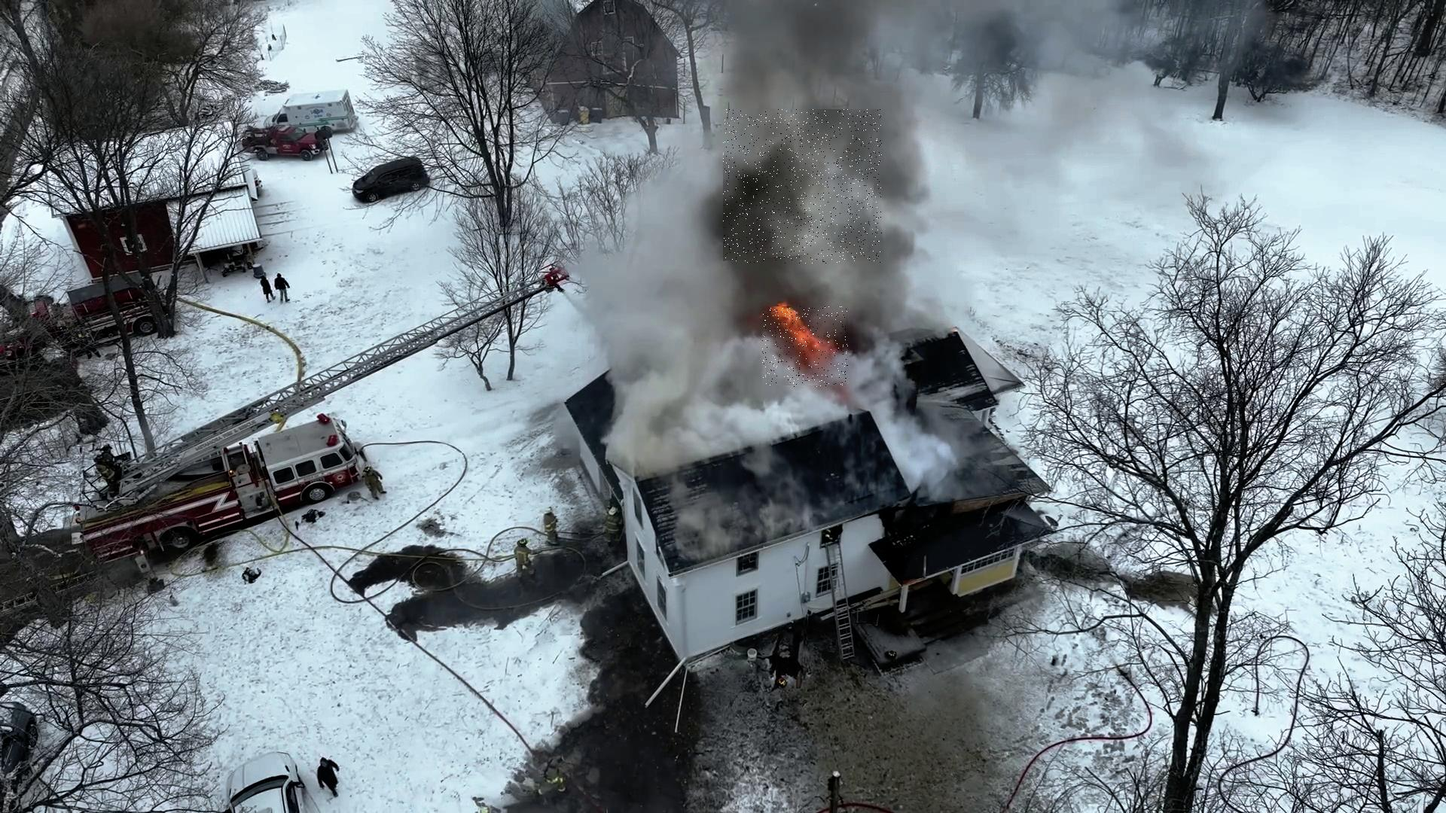fire: (763, 307, 849, 387)
smoke: (723, 110, 882, 264)
